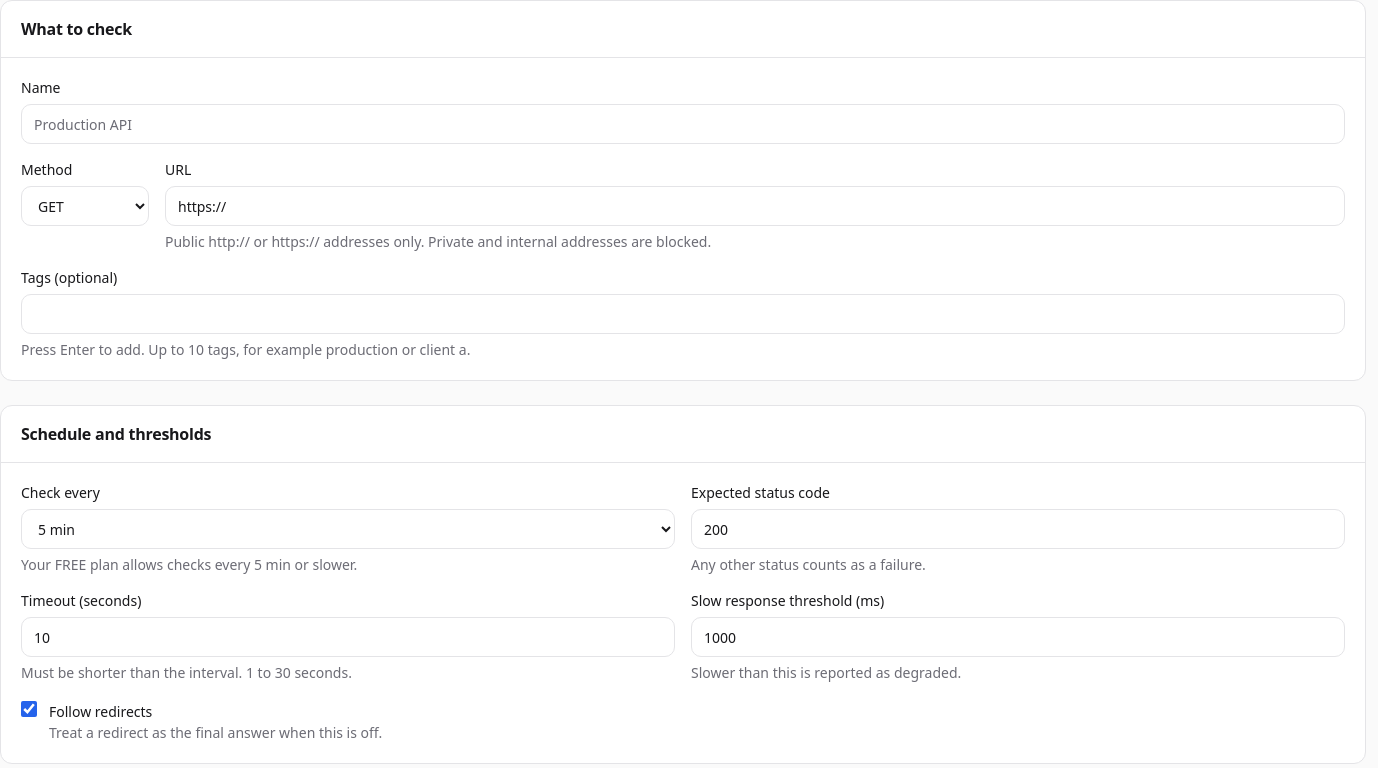
MonitorForm validation › checks the status code, the timeout and the slow threshold
Type "My API" into the field labelled "Name" at (683,124), box [21,104,1345,144]
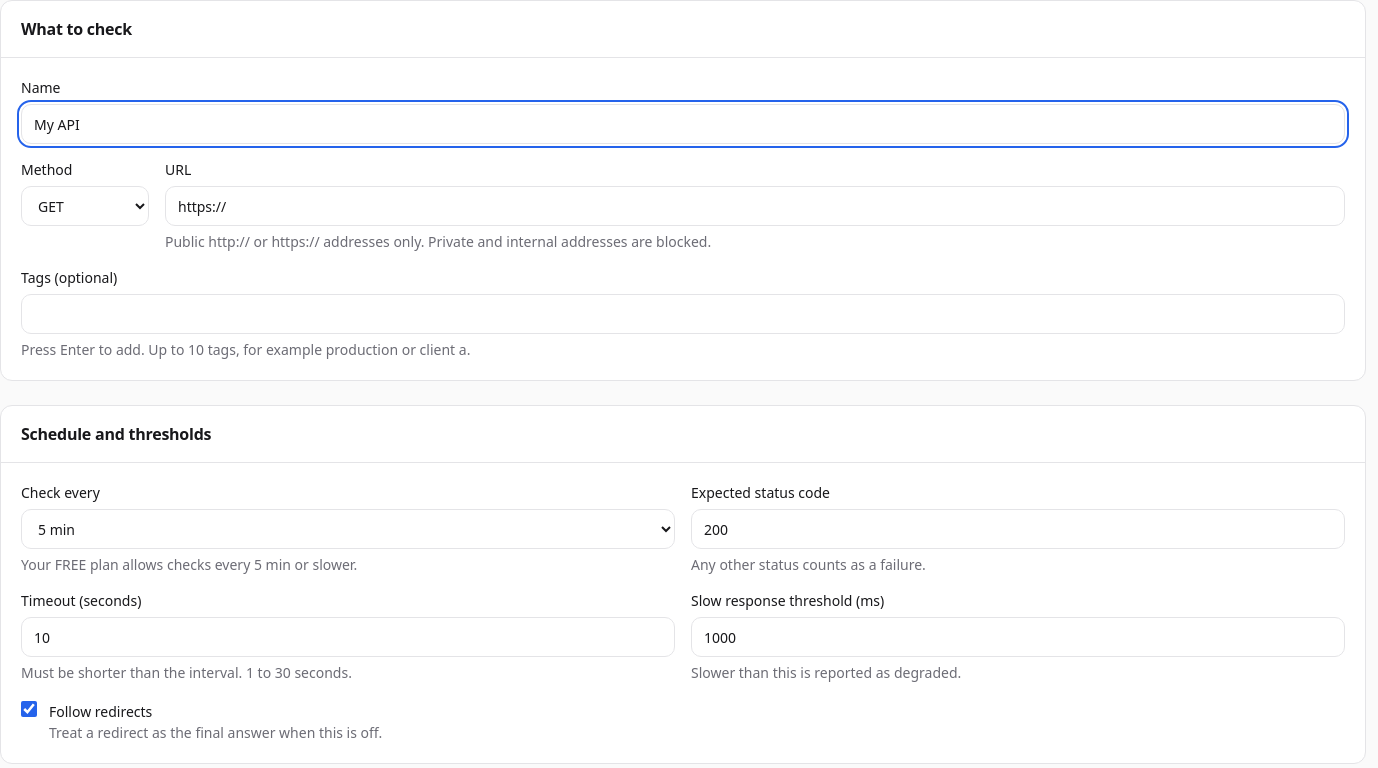
Type "api.example.com" into the field labelled "URL" at (755,206), box [165,186,1345,226]
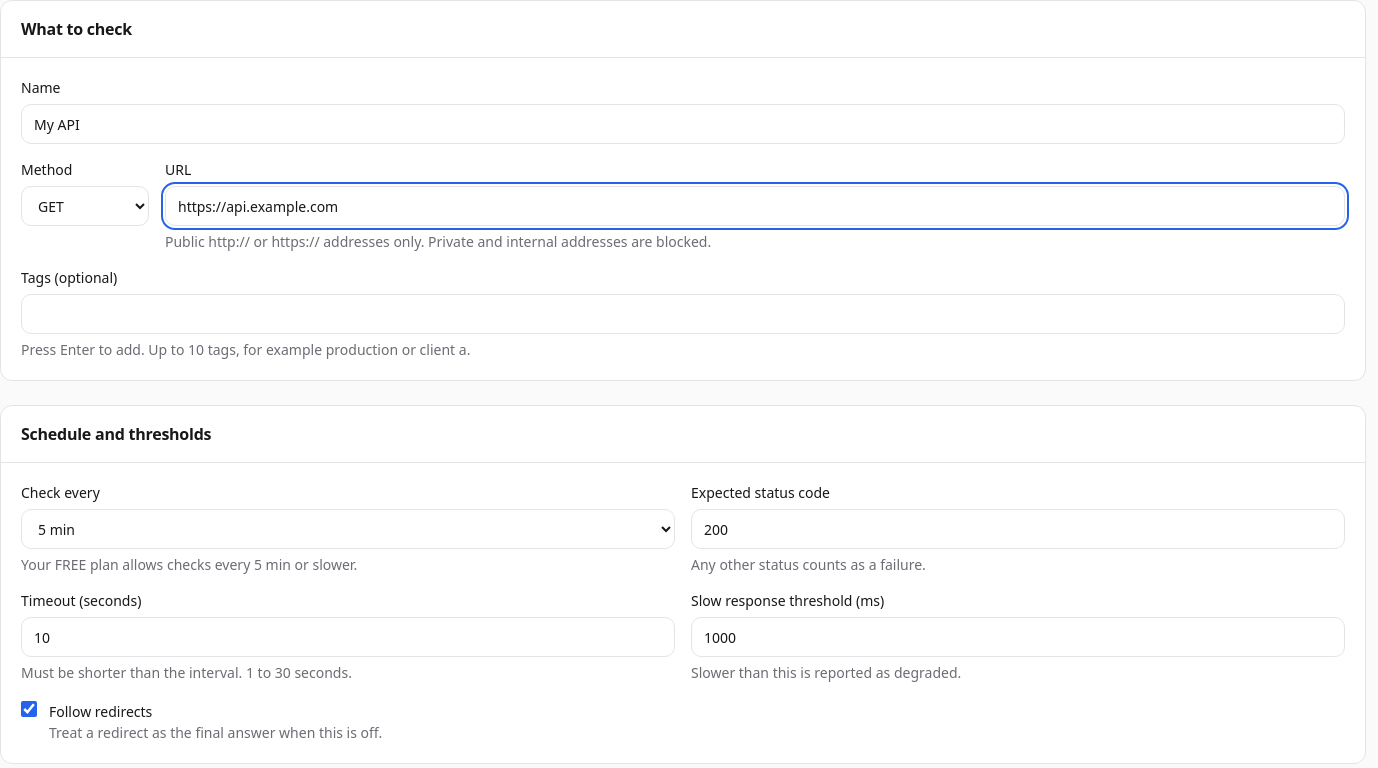
Replace the text in the field labelled "Expected status code" with "99" at (1018,529), box [691,509,1345,549]
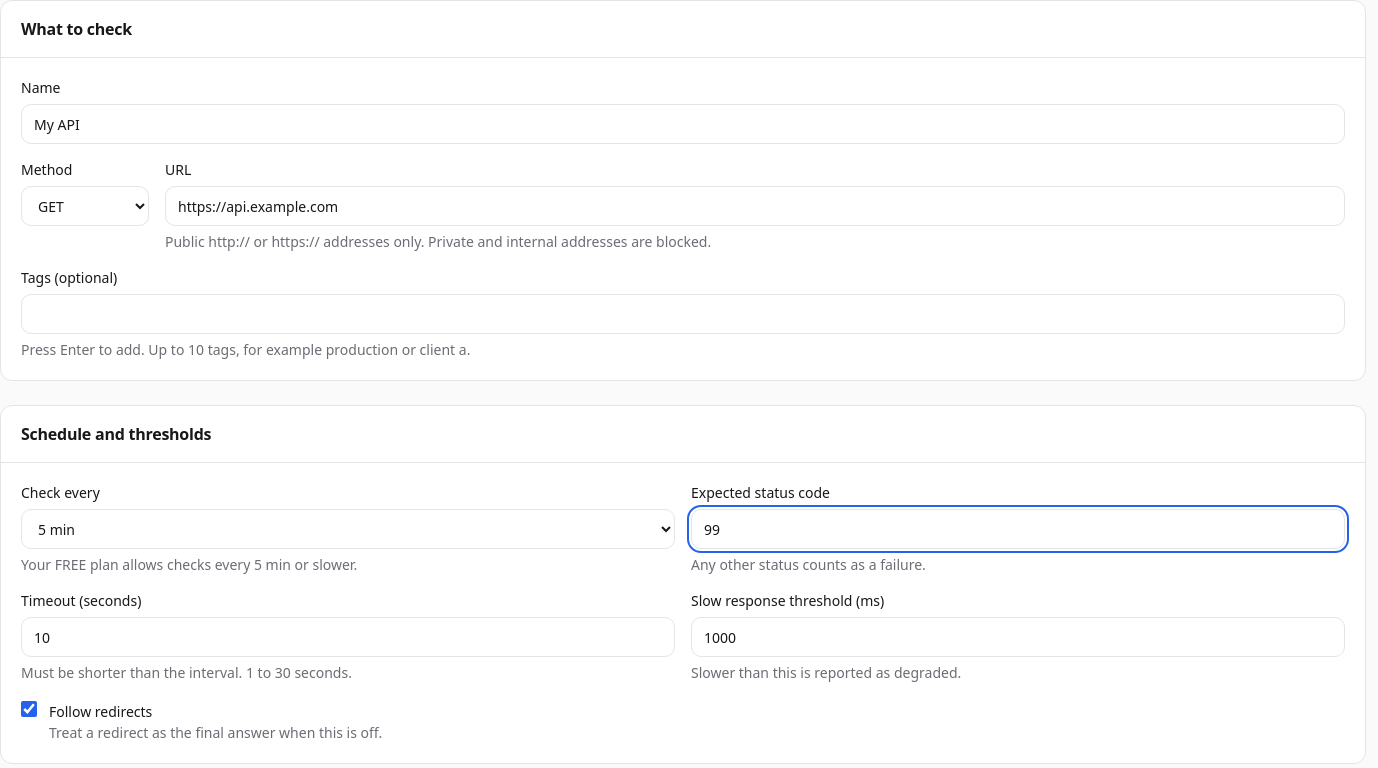
Replace the text in the field labelled "Timeout (seconds)" with "45" at (348,637), box [21,617,675,657]
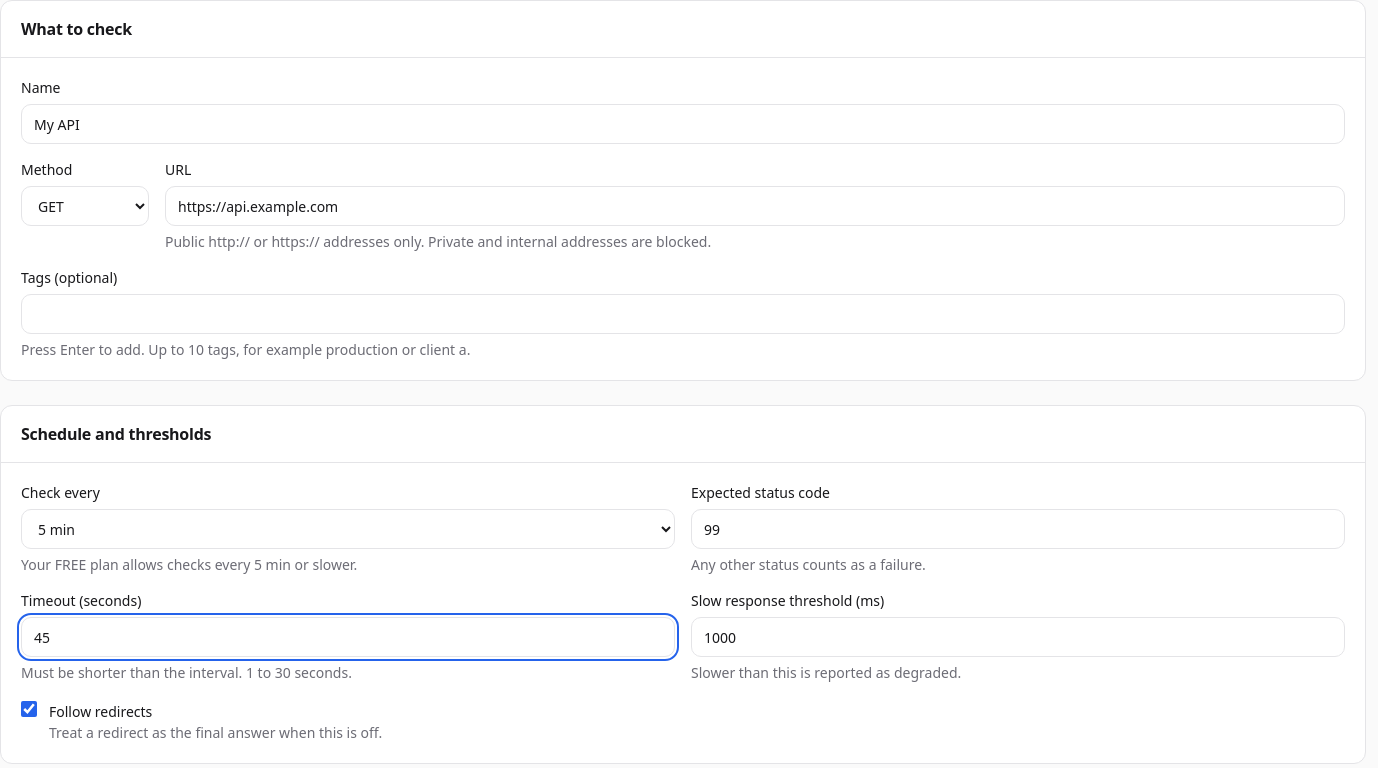
Replace the text in the field labelled "Slow response threshold (ms)" with "10" at (1018,637), box [691,617,1345,657]
(page scrolled)
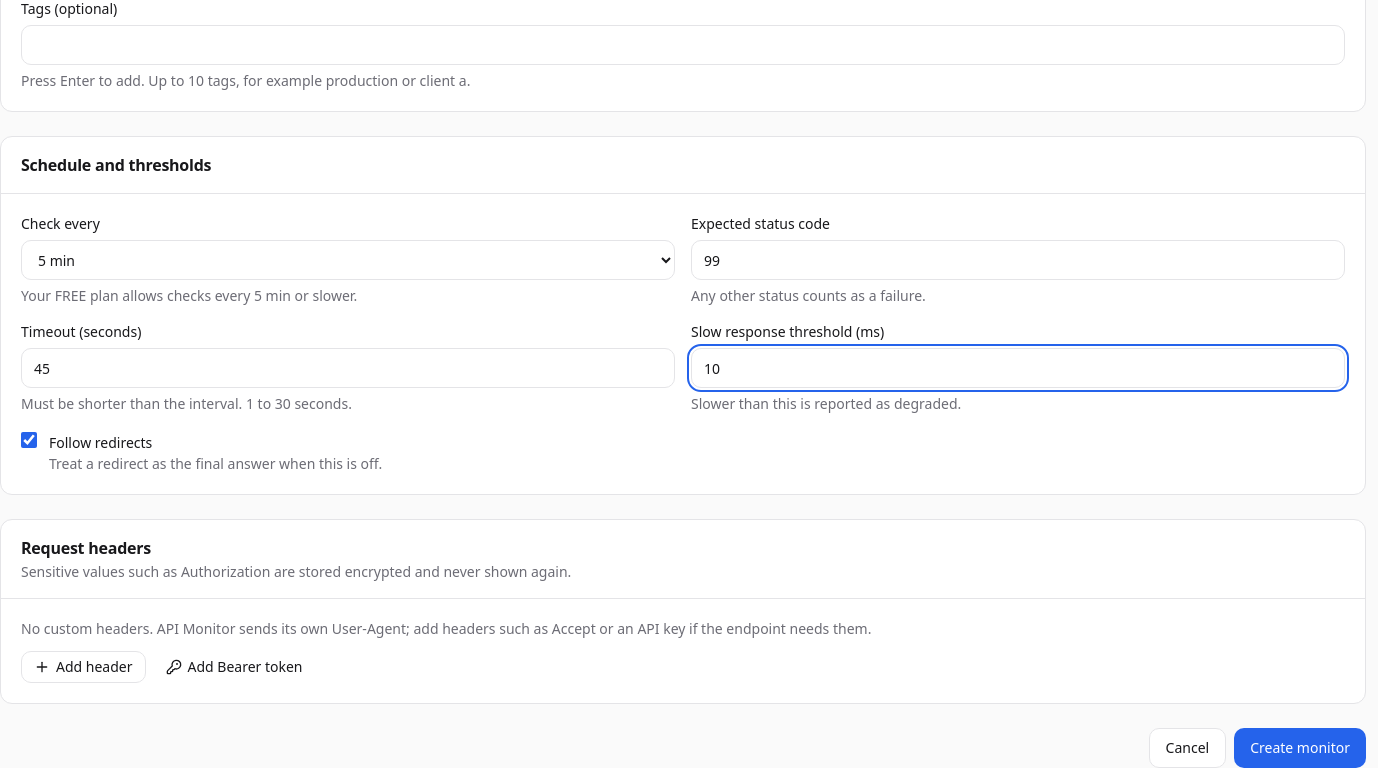
Click the button "Create monitor" at (1300,748), box [1234,728,1366,767]
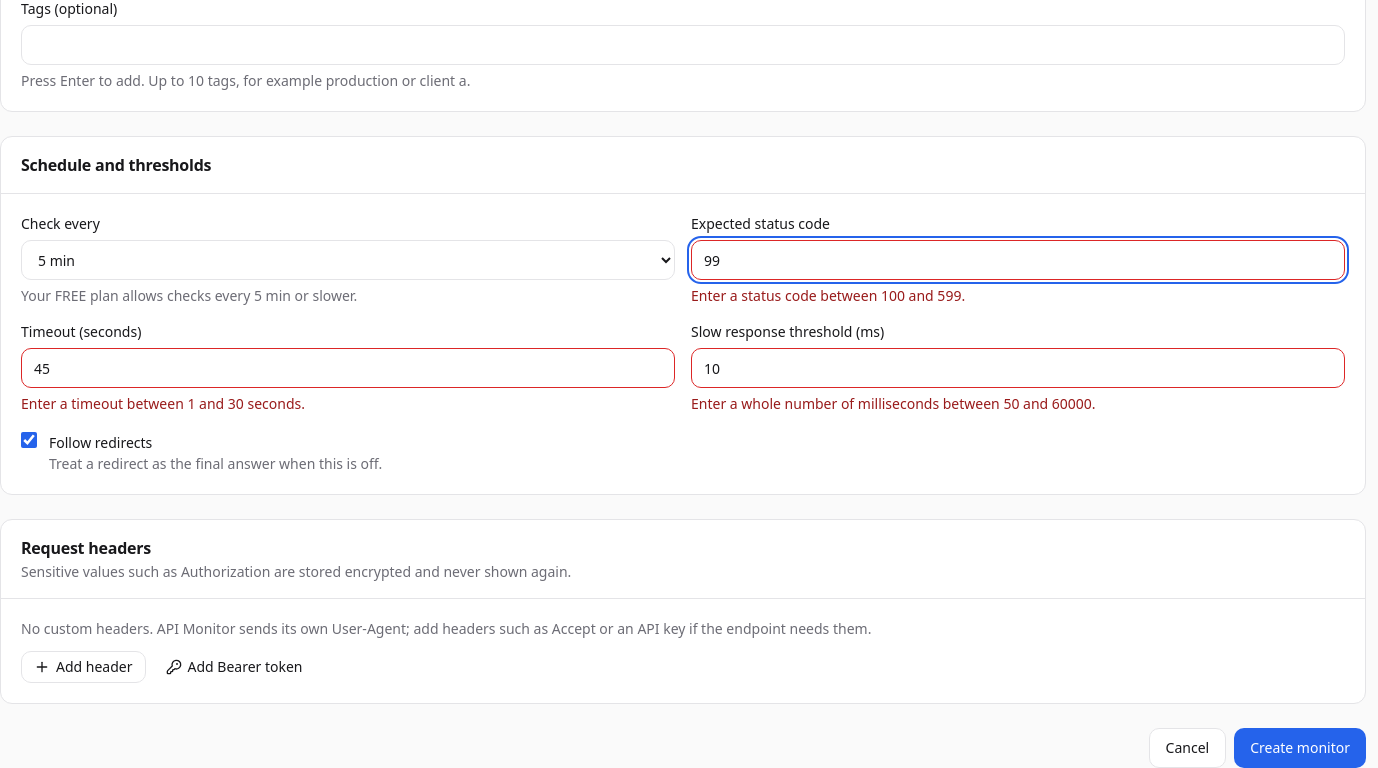
Now the text "Enter a status code between 100 and 599." is shown, box [691,286,965,305]
Now the text "Enter a timeout between 1 and 30 seconds." is shown, box [21,394,305,413]
Now the text "Enter a whole number of milliseconds between 50 and 60000." is shown, box [691,394,1096,413]
